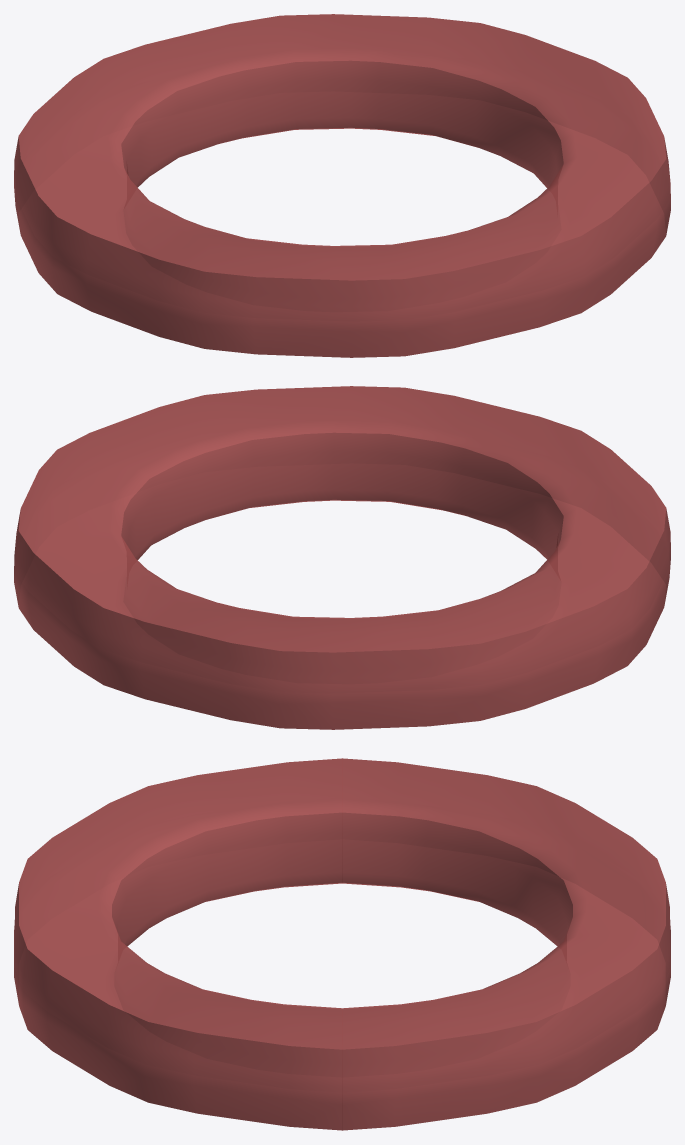
File: Rojo.fbx
3 views of the same model, one above another, from view 1: azimuth 30°, elevation 25°; view 2: azimuth 150°, elevation 25°; view 3: azimuth 270°, elevation 25° (orthographic). The views are drawn at different scales.
Parts seen in each view (by area): view 1: pCylinder12; view 2: pCylinder12; view 3: pCylinder12.
Part boxes in pixels (<box>): pCylinder12: <box>14,14,670,357</box>; pCylinder12: <box>14,386,670,729</box>; pCylinder12: <box>14,758,670,1130</box>.
Size of the model in its own units: 305 by 39.1 by 287.
